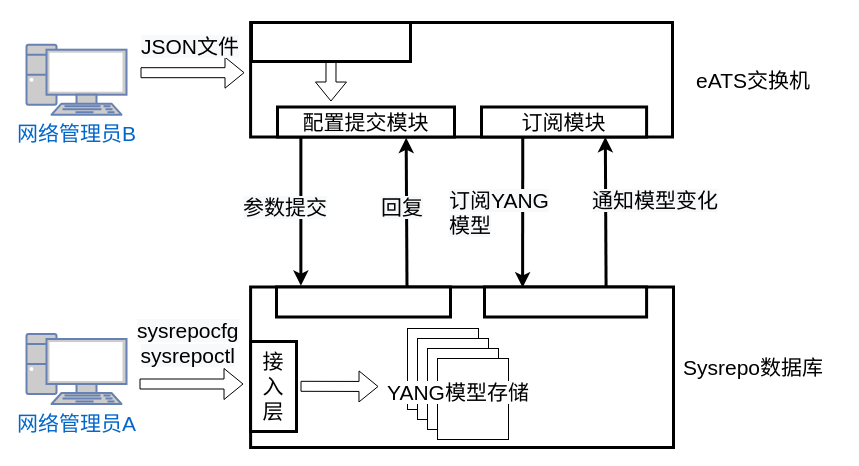
This 859x466 diagram has some shape labels left out. The box of each missing label's shape, as (x1, y1, x2, y2) in pixels:
JSON配置模块: (250, 20, 412, 62)
接收模块: (274, 285, 452, 318)
通知模块: (482, 285, 648, 318)
